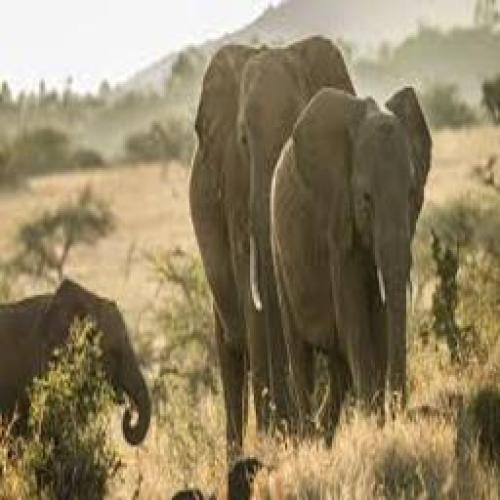african_elephant-endangered: (186, 43, 357, 426), (263, 83, 437, 420), (2, 274, 156, 454)
